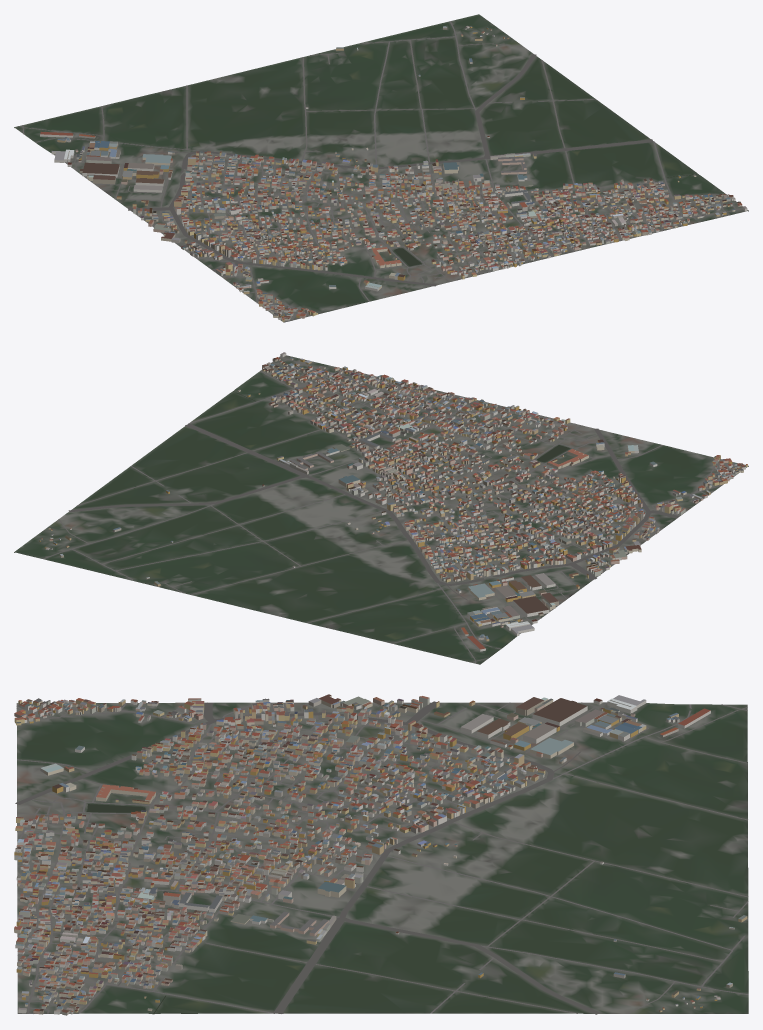
3 views of the same model, one above another, from view 1: azimuth 30°, elevation 25°; view 2: azimuth 150°, elevation 25°; view 3: azimuth 270°, elevation 25° (orthographic). The views are drawn at different scales.
Parts seen in each view (by area): view 1: ground, buildings, roads; view 2: ground, buildings, roads; view 3: ground, buildings, roads.
Boxes of the visible parts, x1,y1,x2,y2 form: ground: [14, 14, 748, 322]; buildings: [40, 26, 747, 321]; roads: [18, 21, 742, 321]; ground: [14, 355, 748, 664]; buildings: [39, 352, 747, 651]; roads: [43, 357, 746, 663]; ground: [16, 702, 748, 1014]; buildings: [14, 694, 747, 1015]; roads: [15, 701, 748, 1014].
Size of the model in its own units: 1430 by 31.01 by 1410.
